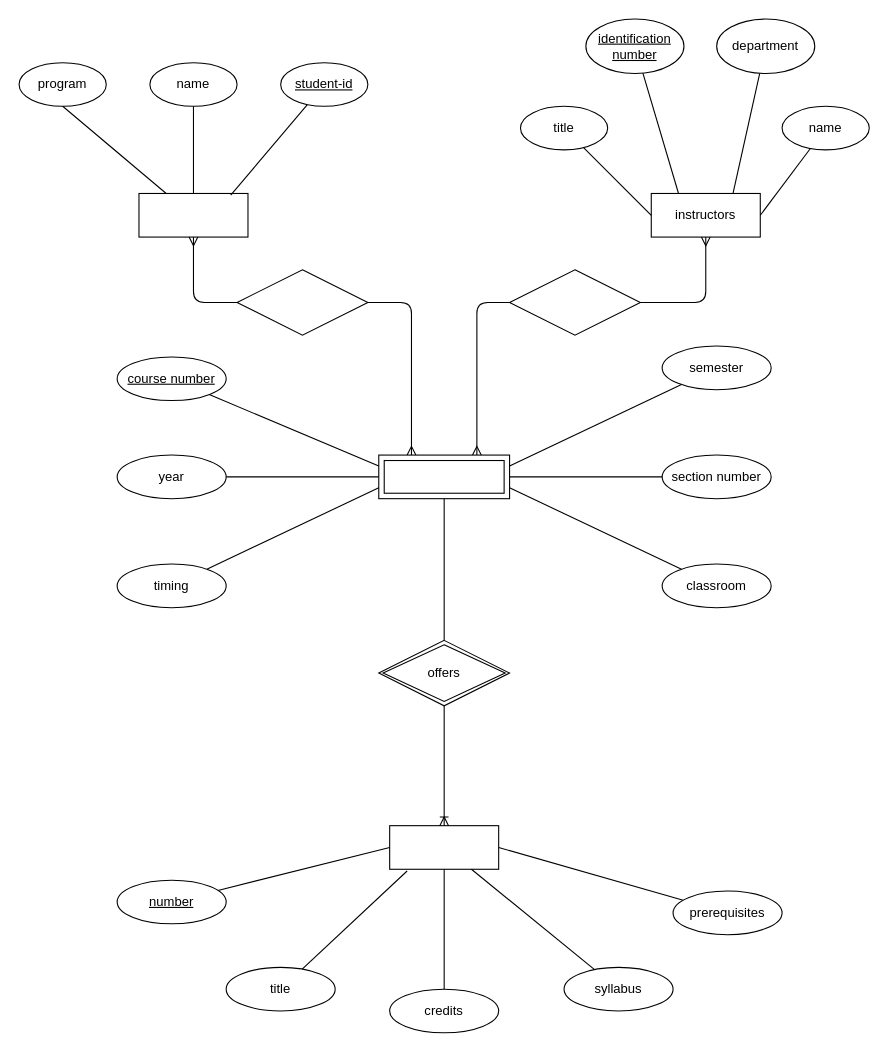
The diagram is 888 pixels wide and 1052 high, and some of its shapes have lost their labels. The centre of each missing label's shape, as x and y in pixels:
"course" belongs at (x=444, y=847).
"course offering" belongs at (x=444, y=476).
"enrol" belongs at (x=302, y=302).
"students" belongs at (x=193, y=214).
"teach" belongs at (x=574, y=302).
